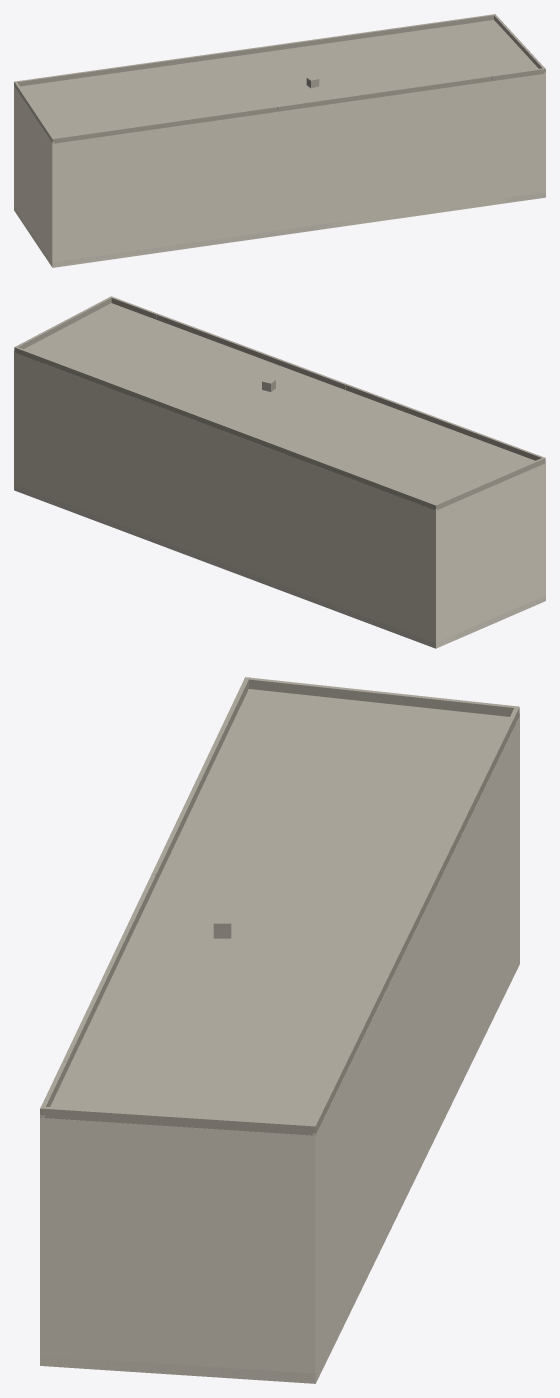
Rendered from cop_equipamento_especial_02__way_1041756195.fbx.
The picture shows the model from 3 angles, top to bottom: view 1: azimuth 30°, elevation 25°; view 2: azimuth 150°, elevation 25°; view 3: azimuth 270°, elevation 25°; orthographic projection. The views are drawn at different scales.
Visible parts, largest first — view 1: cop_equipamento_especial_02__way_1041756195_wall, cop_equipamento_especial_02__way_1041756195_roof, cop_equipamento_especial_02__way_1041756195_stone; view 2: cop_equipamento_especial_02__way_1041756195_wall, cop_equipamento_especial_02__way_1041756195_roof, cop_equipamento_especial_02__way_1041756195_stone; view 3: cop_equipamento_especial_02__way_1041756195_roof, cop_equipamento_especial_02__way_1041756195_wall, cop_equipamento_especial_02__way_1041756195_stone.
Boxes of the visible parts, left/top/right/bottom form: cop_equipamento_especial_02__way_1041756195_wall: left=14, top=73, right=545, bottom=267; cop_equipamento_especial_02__way_1041756195_roof: left=14, top=14, right=545, bottom=143; cop_equipamento_especial_02__way_1041756195_stone: left=14, top=72, right=545, bottom=267; cop_equipamento_especial_02__way_1041756195_wall: left=14, top=352, right=545, bottom=648; cop_equipamento_especial_02__way_1041756195_roof: left=14, top=296, right=545, bottom=510; cop_equipamento_especial_02__way_1041756195_stone: left=14, top=318, right=545, bottom=648; cop_equipamento_especial_02__way_1041756195_roof: left=40, top=677, right=519, bottom=1135; cop_equipamento_especial_02__way_1041756195_wall: left=40, top=716, right=519, bottom=1383; cop_equipamento_especial_02__way_1041756195_stone: left=40, top=713, right=519, bottom=1383.
Bounding box in the file's own units: 7001 × 1912 × 3160.
